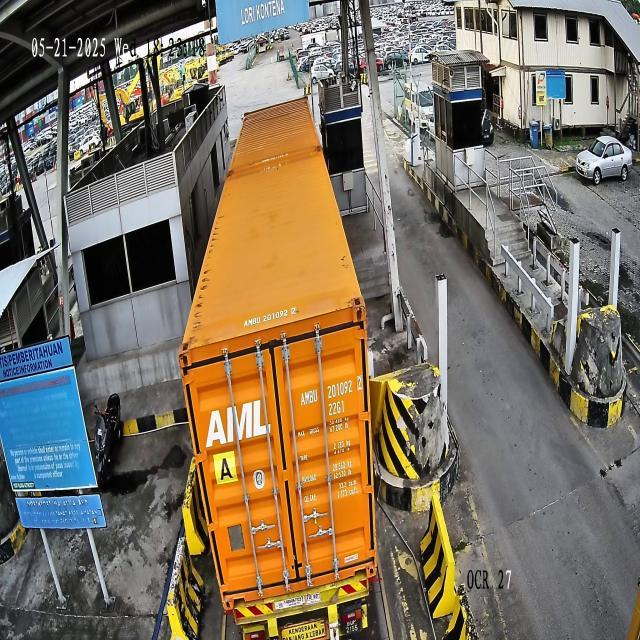ISO: (326, 396, 346, 417)
container_number: (300, 374, 362, 410)
